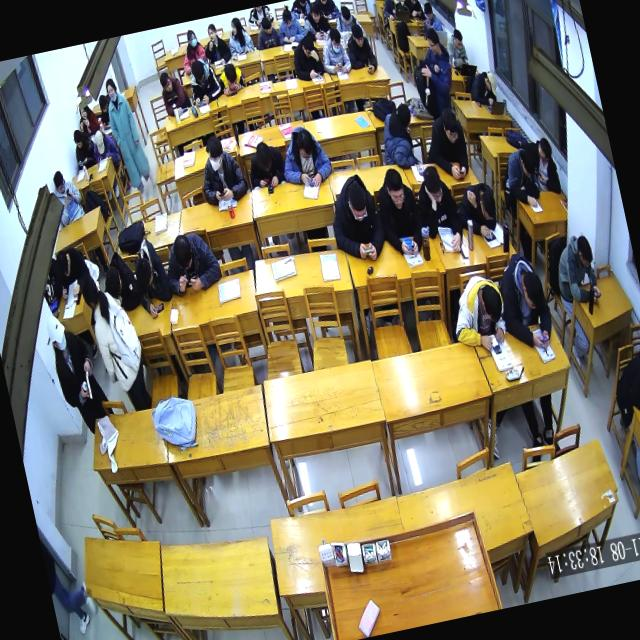bow: (154, 224, 224, 300), (126, 232, 178, 320), (452, 177, 503, 244), (96, 246, 144, 316), (500, 143, 545, 212), (465, 64, 502, 110), (214, 59, 248, 100)
down: (517, 268, 549, 317), (342, 178, 371, 226), (477, 280, 506, 326), (169, 231, 197, 275), (419, 163, 446, 207), (438, 104, 463, 146), (102, 264, 126, 302), (573, 232, 596, 271), (476, 188, 500, 225), (133, 254, 156, 290), (252, 138, 274, 174), (294, 126, 316, 162), (518, 148, 538, 182), (54, 248, 74, 280), (298, 33, 318, 61), (326, 26, 344, 56), (482, 68, 500, 98), (189, 58, 208, 86), (50, 168, 68, 197), (349, 22, 367, 50), (91, 127, 108, 156), (222, 60, 240, 87), (450, 26, 466, 52), (157, 70, 174, 94), (307, 1, 322, 26), (70, 127, 86, 150), (279, 7, 295, 30), (339, 4, 353, 28), (422, 0, 436, 22), (96, 93, 110, 114), (406, 0, 419, 6), (388, 0, 402, 4)
lookup: (202, 132, 228, 172), (102, 76, 119, 104), (76, 101, 90, 122), (205, 22, 219, 43)
sit: (77, 264, 154, 418), (42, 304, 115, 433), (490, 246, 559, 358), (99, 71, 156, 201), (320, 168, 390, 270), (443, 270, 514, 359), (408, 159, 468, 259), (370, 162, 428, 260), (192, 130, 252, 210), (547, 228, 605, 310), (418, 103, 474, 186), (273, 119, 335, 192), (411, 24, 460, 114), (373, 99, 422, 172), (605, 343, 640, 428), (50, 240, 96, 301), (242, 135, 289, 192), (526, 134, 564, 198), (48, 165, 87, 227), (183, 54, 224, 108), (341, 20, 379, 78), (286, 30, 326, 84), (316, 23, 354, 78), (156, 67, 192, 120), (198, 18, 234, 68), (174, 26, 210, 75), (270, 3, 306, 47), (86, 124, 121, 168), (298, 0, 333, 44), (222, 12, 255, 58), (68, 124, 99, 172), (442, 26, 471, 72), (416, 0, 445, 40), (252, 13, 282, 51), (73, 98, 101, 138), (332, 2, 362, 39), (377, 0, 405, 21), (399, 0, 425, 21)
